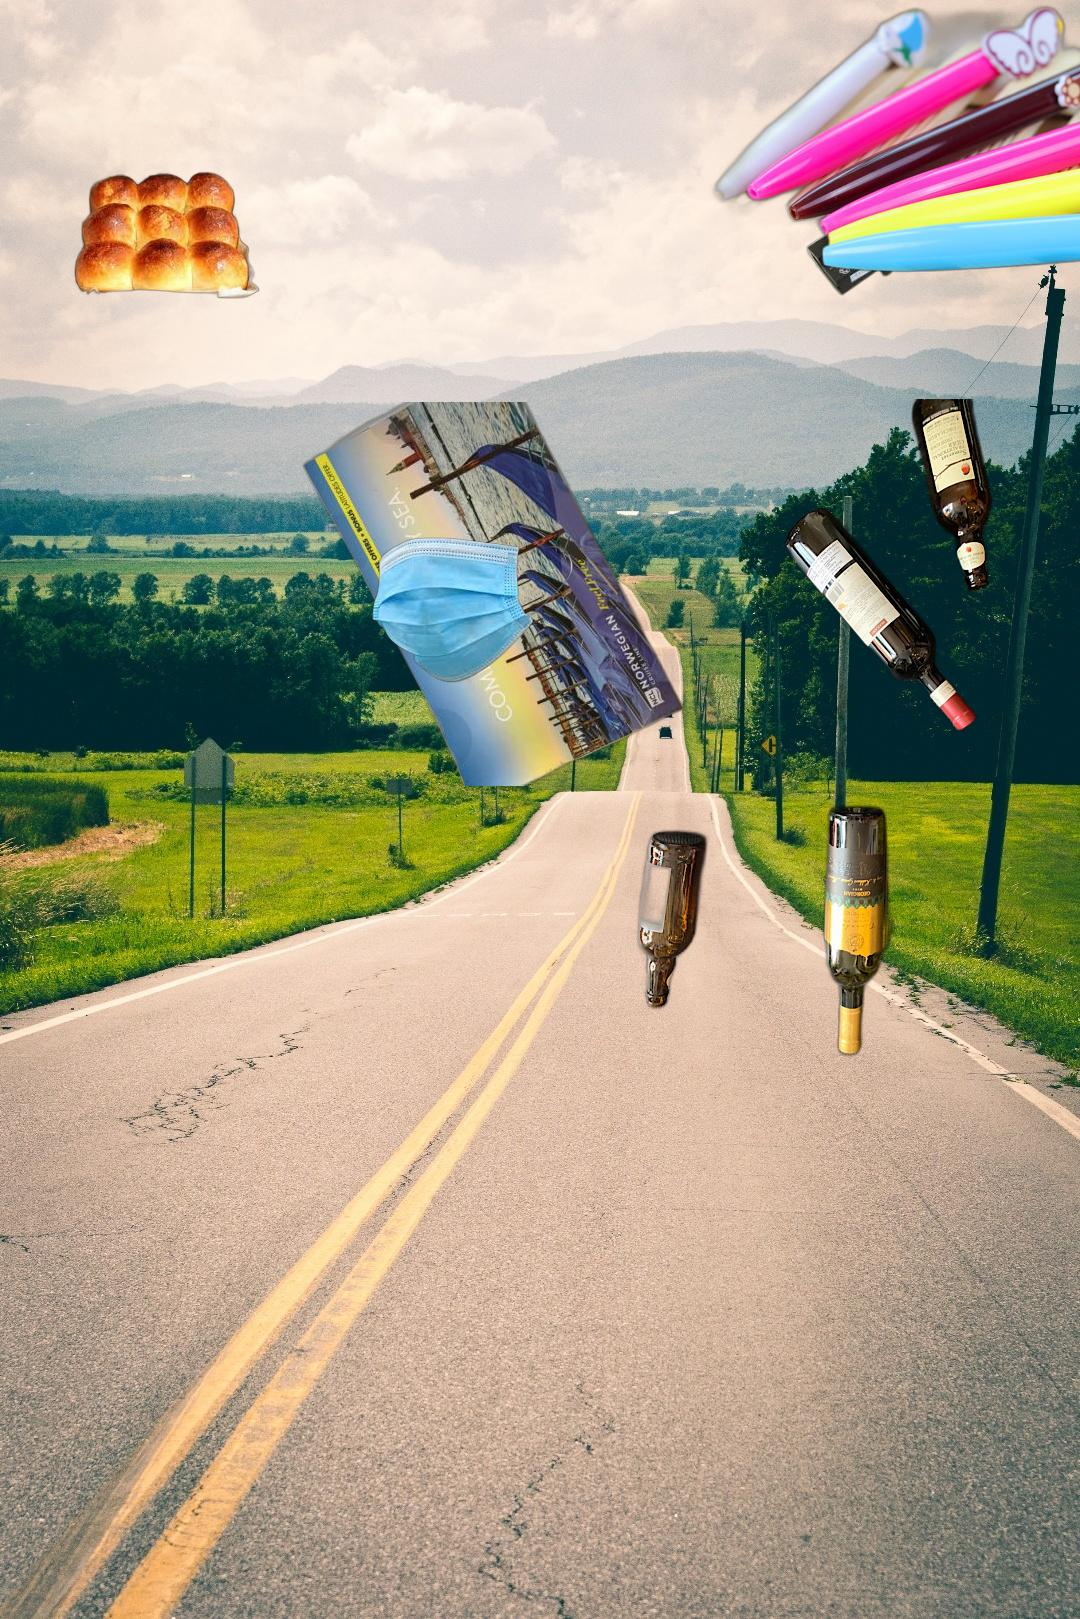battery: (804, 115, 1045, 298)
biological: (72, 170, 262, 301)
glass: (633, 399, 996, 1061)
paper: (300, 401, 688, 786)
penholder: (708, 2, 1080, 278)
trash: (370, 535, 576, 685)
